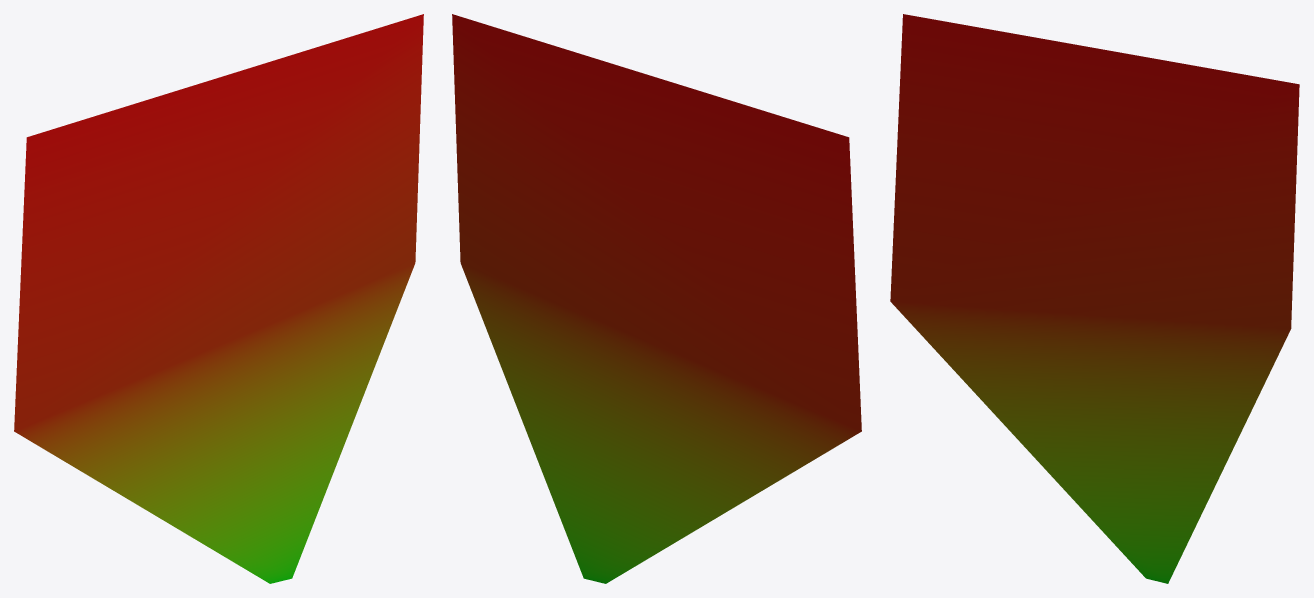
The model's file is Chamomile_LOD4_Var8.fbx.
3 renders of one model, left to right at view 1: azimuth 30°, elevation 25°; view 2: azimuth 150°, elevation 25°; view 3: azimuth 330°, elevation 25°, orthographic.
Visible parts, largest first — view 1: _r8ed_Var8_LOD4; view 2: _r8ed_Var8_LOD4; view 3: _r8ed_Var8_LOD4.
Part boxes in pixels (bbox=[...]): _r8ed_Var8_LOD4: bbox=[14, 14, 423, 583]; _r8ed_Var8_LOD4: bbox=[452, 14, 861, 583]; _r8ed_Var8_LOD4: bbox=[890, 14, 1299, 583].
Size of the model in its own units: 23.29 by 28.91 by 3.45e-06.
